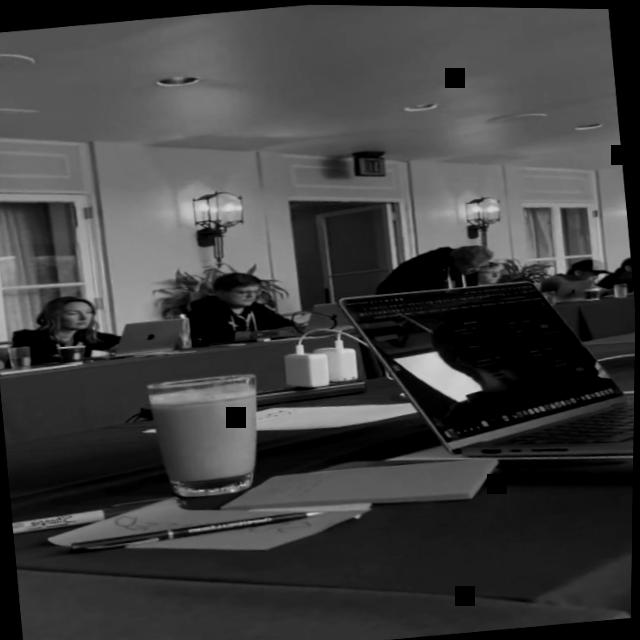NO-Mask: (62, 301, 96, 332), (233, 283, 261, 306), (480, 263, 506, 283), (460, 259, 484, 274), (580, 269, 604, 281)
